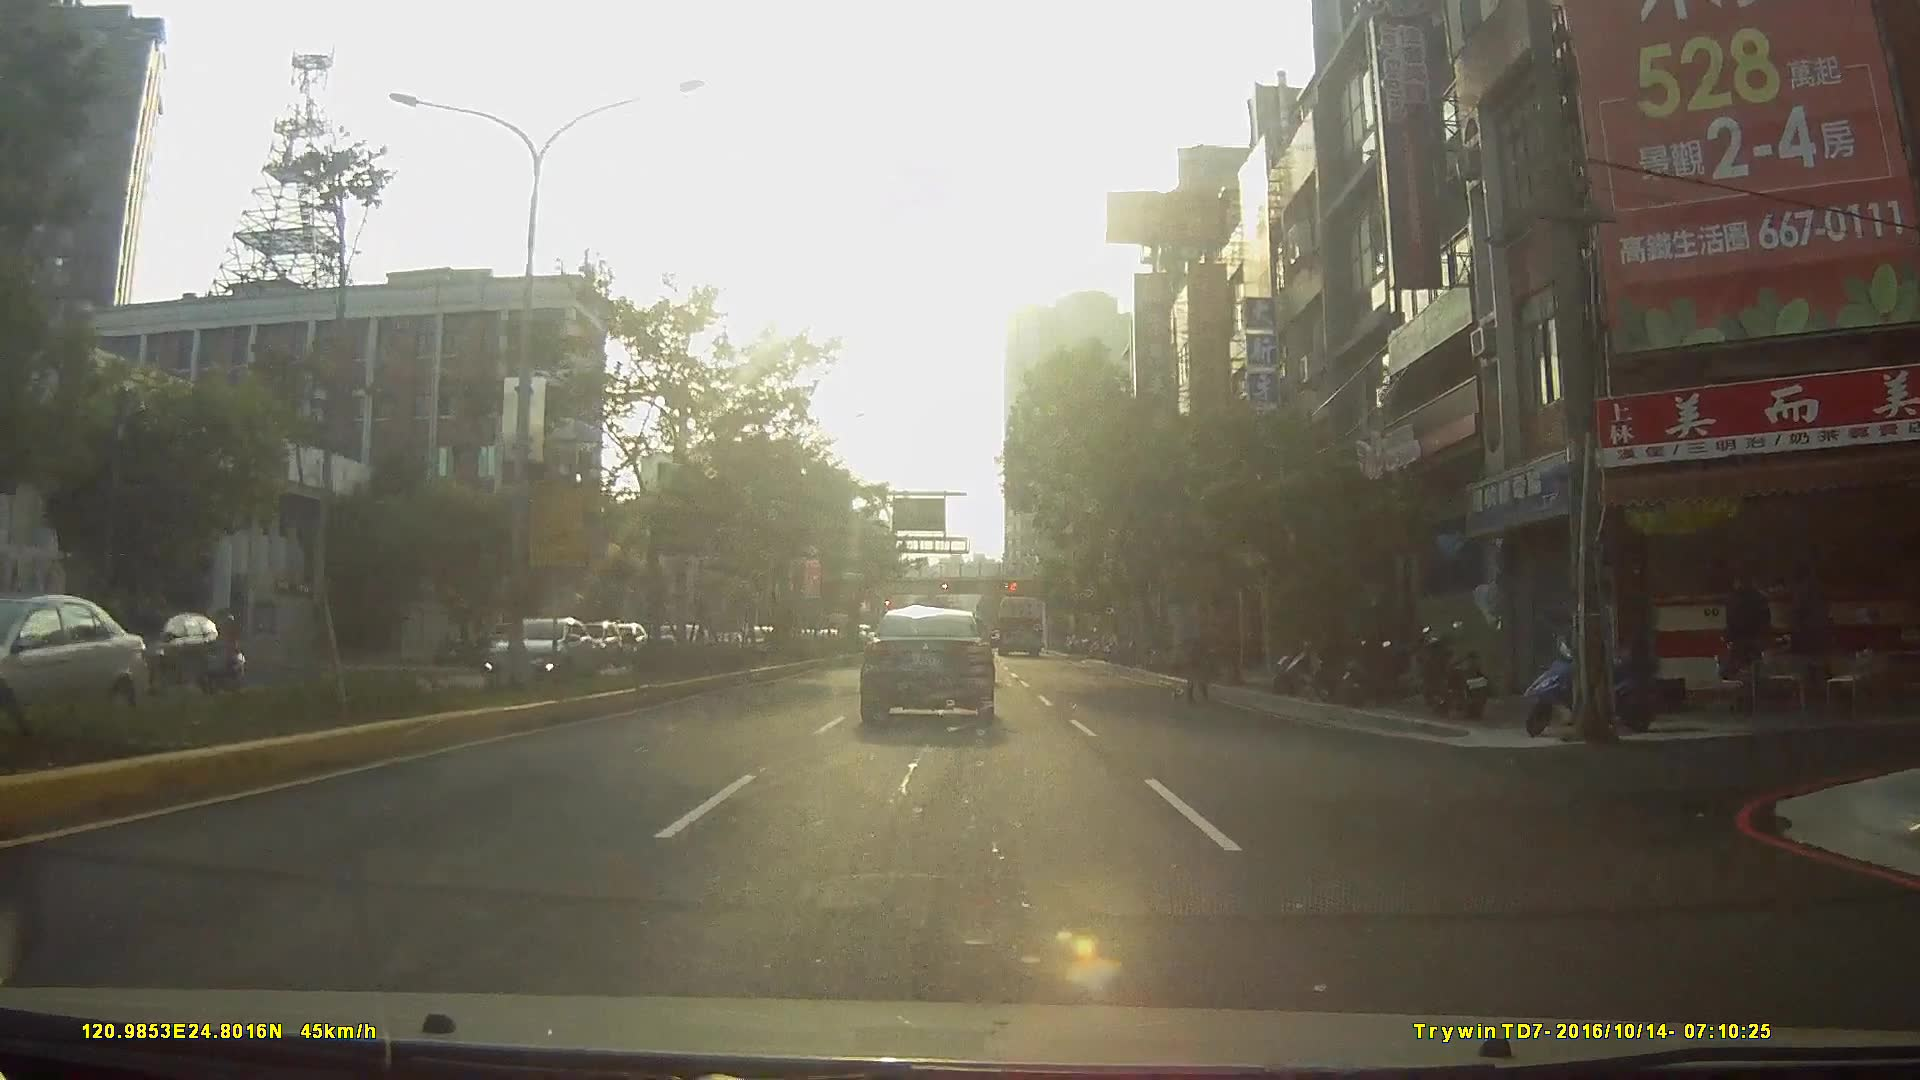pedestrian: (1177, 605, 1218, 707)
rider: (195, 611, 253, 700)
vehicle: (1, 587, 180, 762), (856, 604, 997, 725), (80, 611, 219, 697), (483, 610, 602, 695), (992, 594, 1043, 658), (485, 620, 547, 669), (572, 622, 626, 669)
